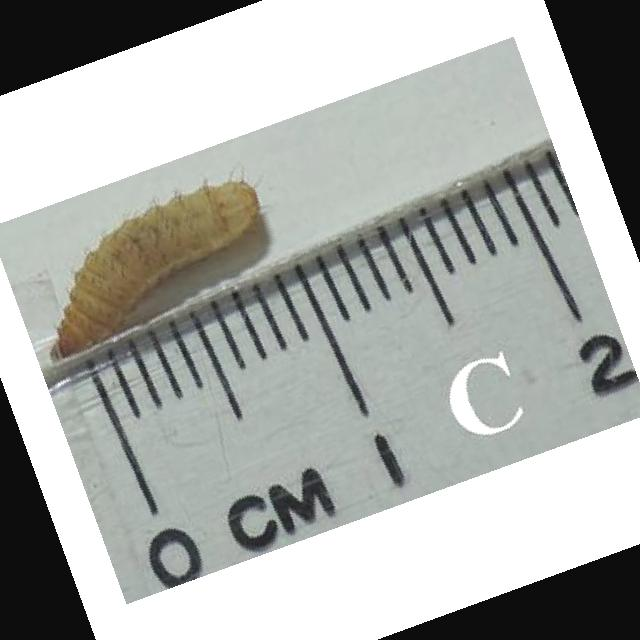Maggot: (54, 176, 259, 357)
